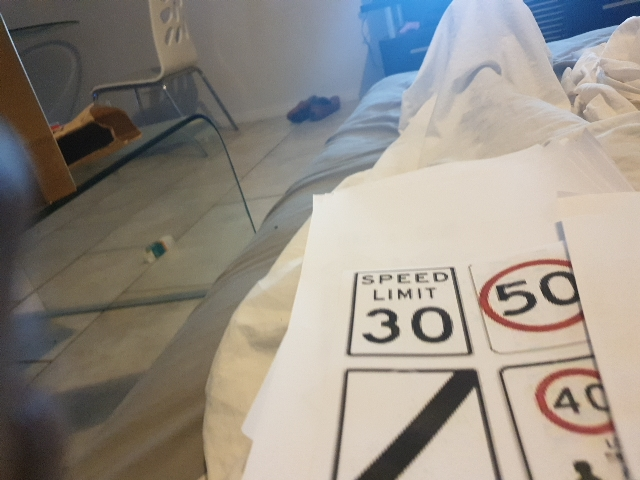sp30: (364, 298, 471, 356)
sp40: (525, 365, 639, 436)
sp50: (462, 258, 610, 328)
